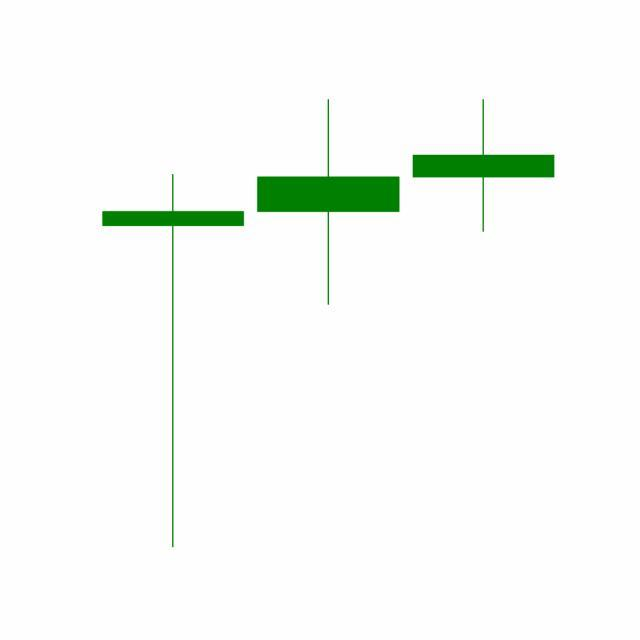Spinning Top: (250, 97, 407, 308)
